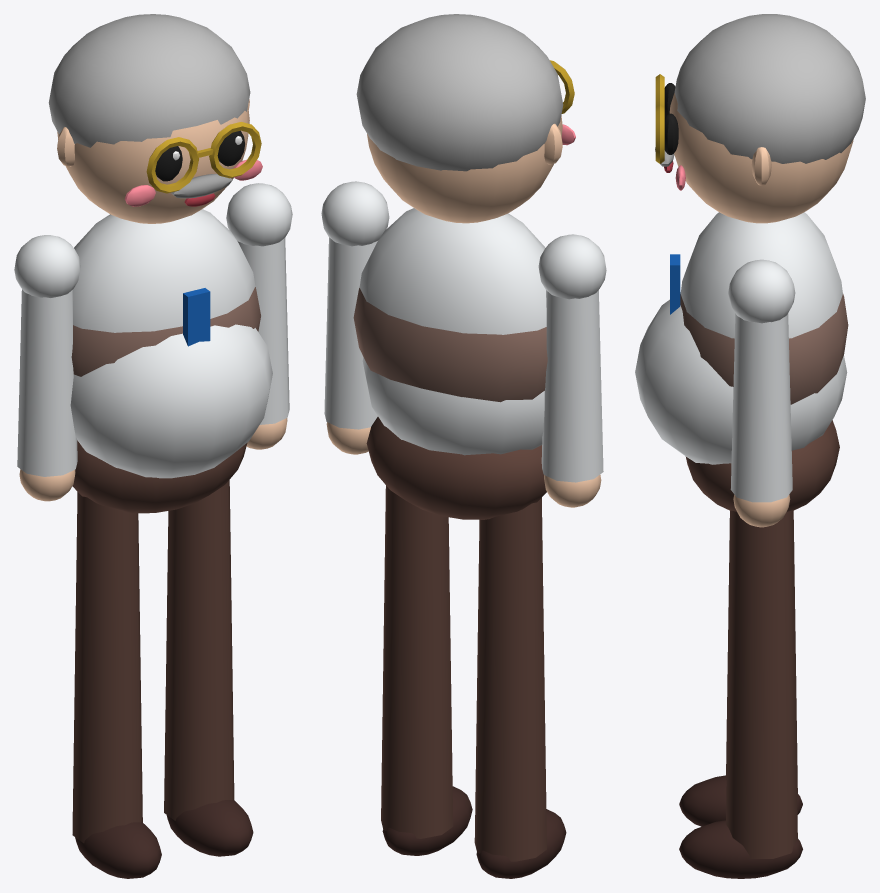
The model's file is hustle_instructor.glb.
The picture shows the model from 3 angles, left to right: view 1: azimuth 30°, elevation 25°; view 2: azimuth 150°, elevation 25°; view 3: azimuth 270°, elevation 25°; orthographic projection. The views are drawn at different scales.
Parts seen in each view (by area): view 1: Body.003, Leg_R.003, Leg_L.003, Arm_R.003, Arm_L.003; view 2: Body.003, Leg_R.003, Leg_L.003, Arm_R.003, Arm_L.003; view 3: Body.003, Leg_L.003, Arm_L.003, Leg_R.003.
Part boxes in pixels (bbox=[...]): Body.003: bbox=[48, 14, 272, 513]; Leg_R.003: bbox=[72, 492, 161, 878]; Leg_L.003: bbox=[164, 480, 253, 856]; Arm_R.003: bbox=[14, 235, 80, 501]; Arm_L.003: bbox=[226, 183, 292, 449]; Body.003: bbox=[353, 14, 575, 519]; Leg_R.003: bbox=[474, 497, 566, 878]; Leg_L.003: bbox=[381, 485, 472, 855]; Arm_R.003: bbox=[538, 234, 606, 507]; Arm_L.003: bbox=[321, 181, 389, 454]; Body.003: bbox=[635, 14, 865, 511]; Leg_L.003: bbox=[679, 510, 802, 878]; Arm_L.003: bbox=[728, 259, 795, 527]; Leg_R.003: bbox=[679, 510, 802, 826].
Bounding box in the file's own units: 0.6052 × 1.76 × 0.4466.
